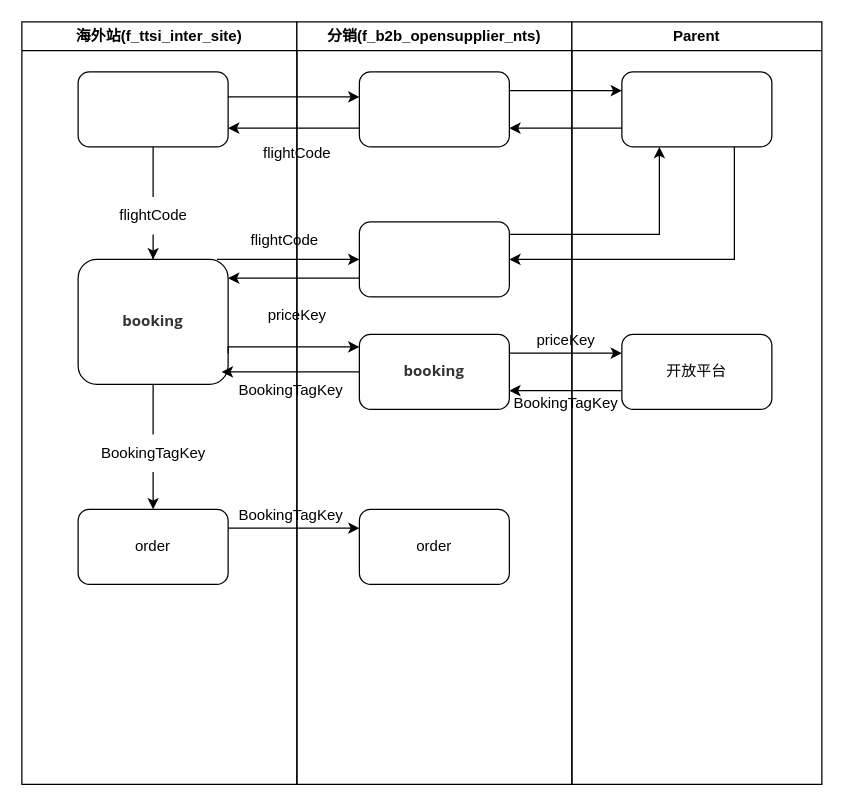
The diagram is 844 pixels wide and 806 high, and some of its shapes have lost their labels. The shapes that lost their labels are listed below. From the top down, each one's centre as x and y in pixels, then its label:
At (x=152, y=109): "search".
At (x=433, y=109): "searchFlight".
At (x=696, y=109): "POST".
At (x=433, y=259): "OTA".
